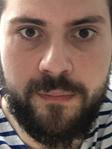without_mask: (2, 2, 112, 149)
